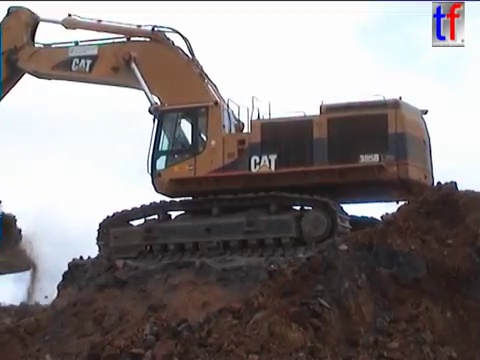excavator: (1, 3, 439, 271)
truck: (1, 247, 34, 277)
